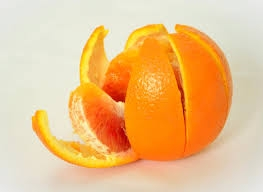kitchen_waste: (126, 18, 238, 170), (26, 100, 135, 176), (76, 18, 123, 169), (65, 79, 144, 156)
